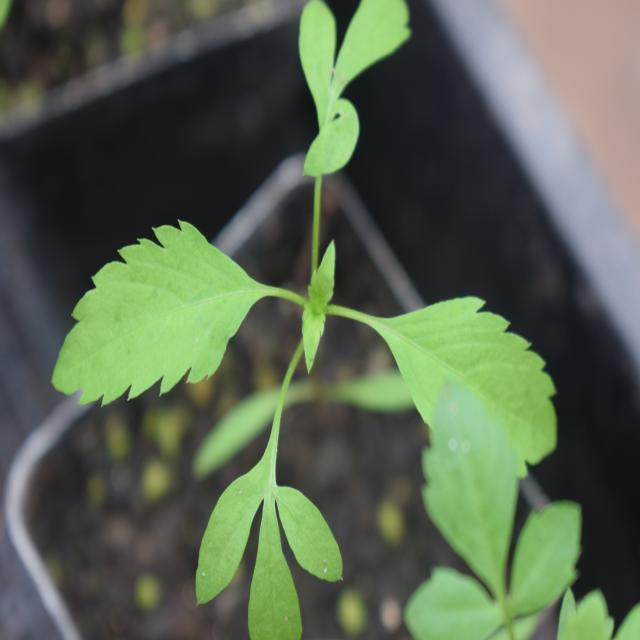Bidens pilosa: (52, 0, 564, 620)
